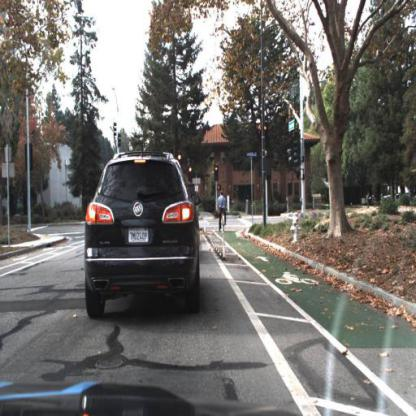biker: (218, 190, 228, 234)
car: (81, 145, 203, 322)
trafficLight-Red: (264, 122, 273, 149), (261, 125, 269, 150), (214, 165, 220, 182), (189, 166, 194, 184), (178, 153, 183, 170)
